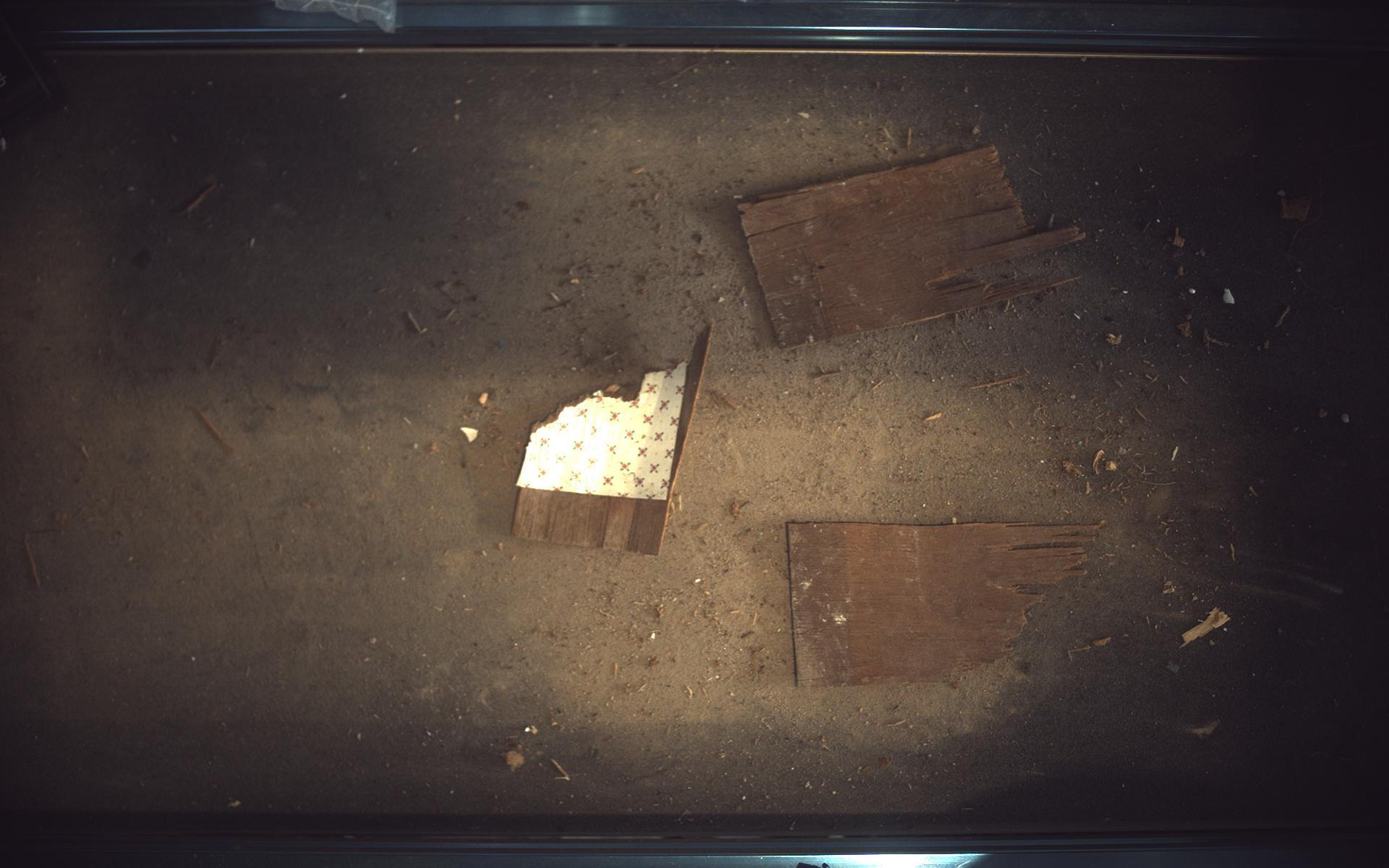wood: (739, 145, 1088, 346), (790, 524, 1102, 686), (513, 324, 713, 556)
